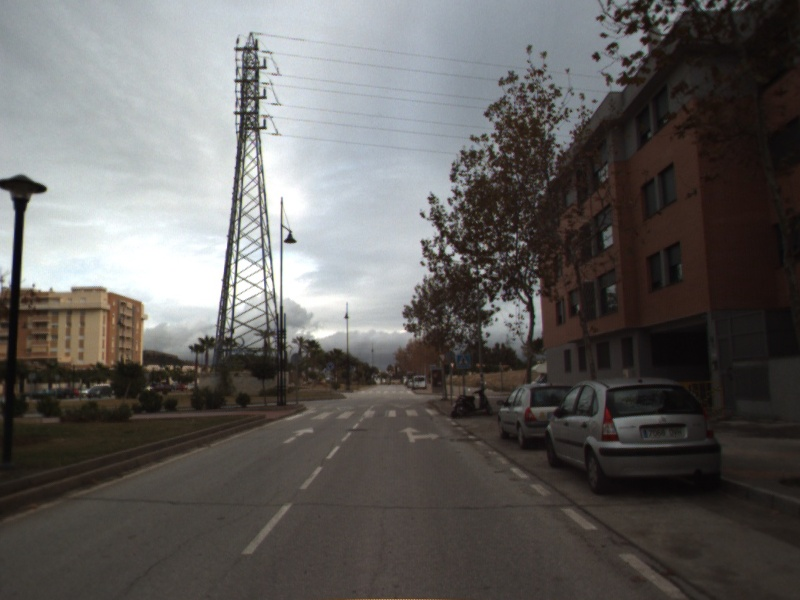STRAIGHT: (281, 425, 316, 445)
STRAIGHT_RIGHT: (397, 425, 441, 444)
